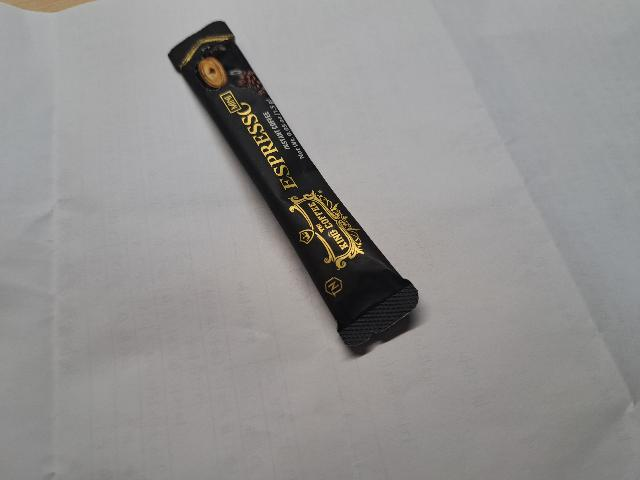espresso_mini: (155, 4, 437, 381)
